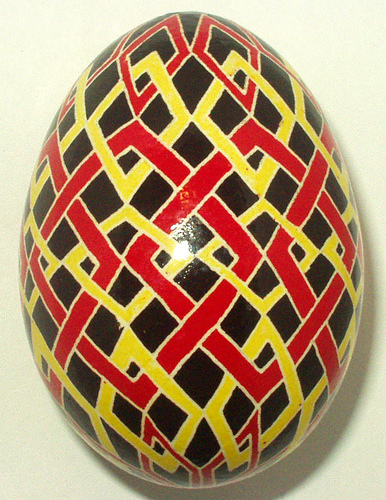egg: (17, 10, 367, 491)
